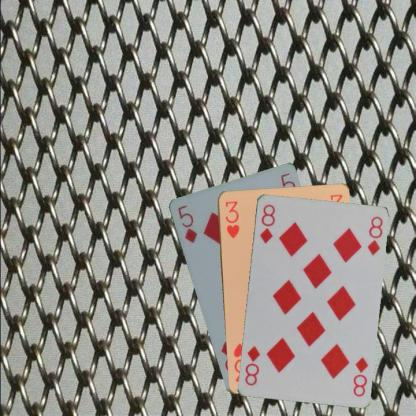3h: (222, 198, 240, 239)
5d: (175, 203, 198, 245)
8d: (350, 354, 369, 398), (257, 201, 276, 244)
